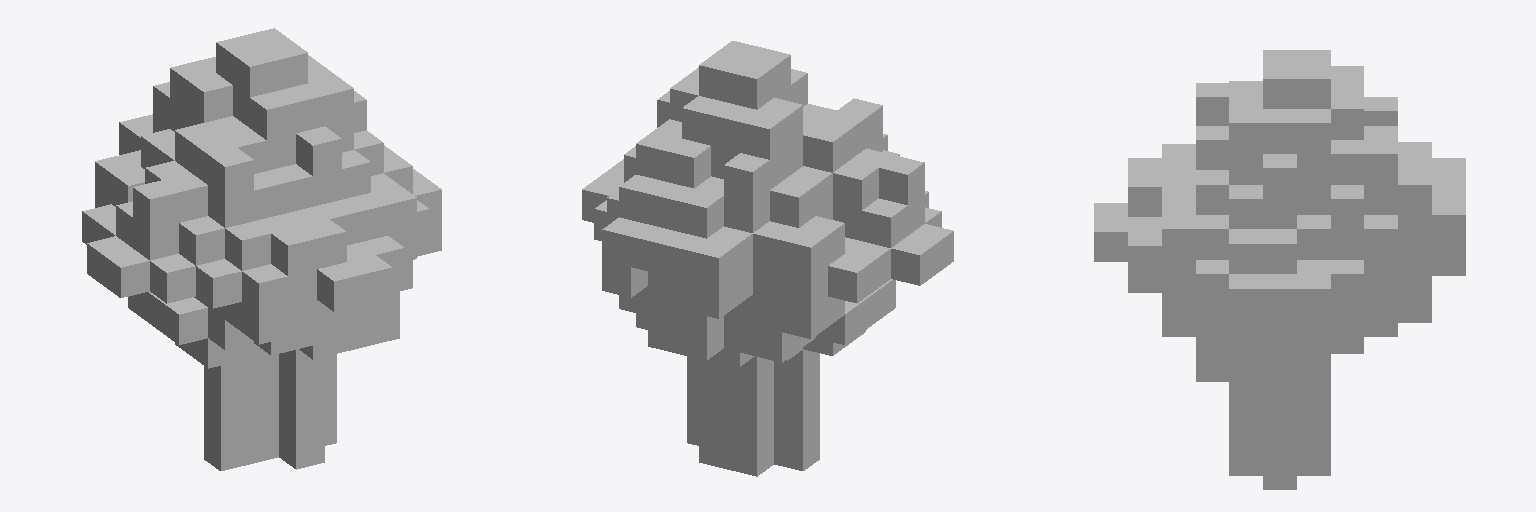
Rendered from Tree.obj.
3 renders of one model, left to right at view 1: azimuth 30°, elevation 25°; view 2: azimuth 150°, elevation 25°; view 3: azimuth 270°, elevation 25°, orthographic.
Bounding box in the file's own units: 11 × 13 × 11.